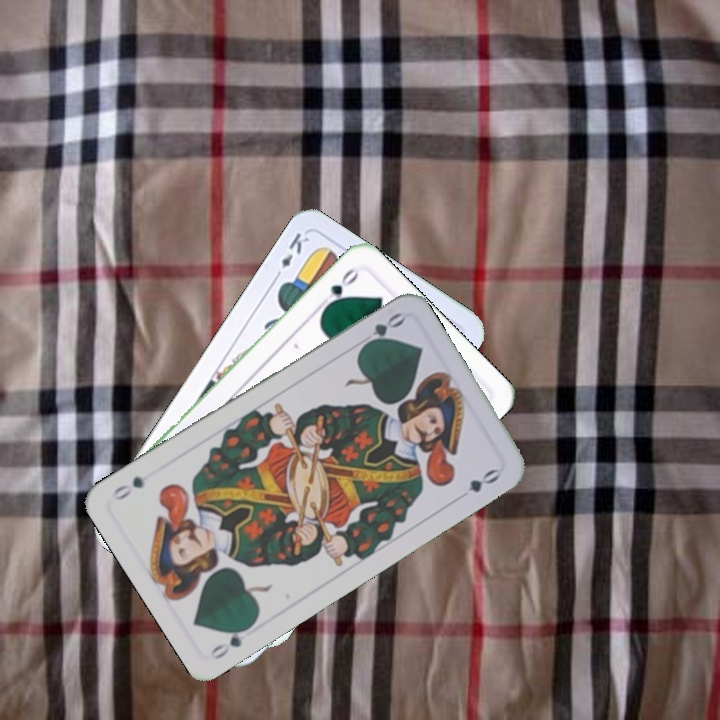EK: (269, 228, 312, 283)
GO: (354, 308, 407, 353), (315, 264, 362, 313), (206, 619, 257, 663)
